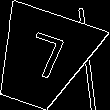L_S: (15, 30, 69, 88)
